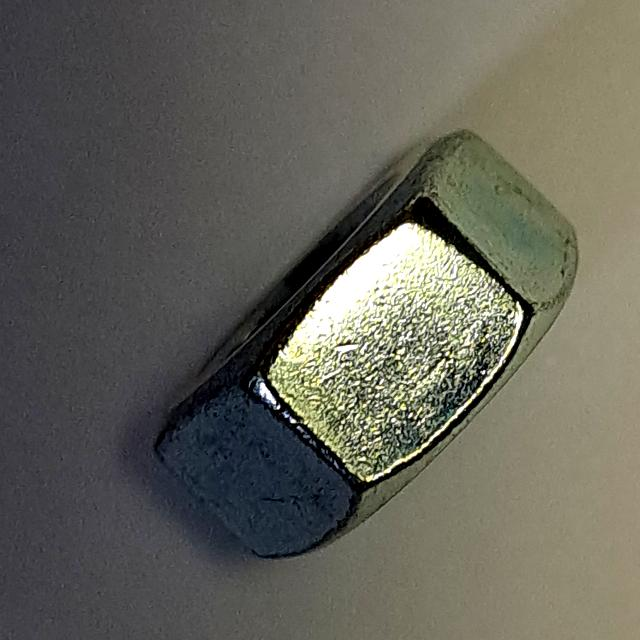Side_Excellent: (145, 113, 587, 573)
